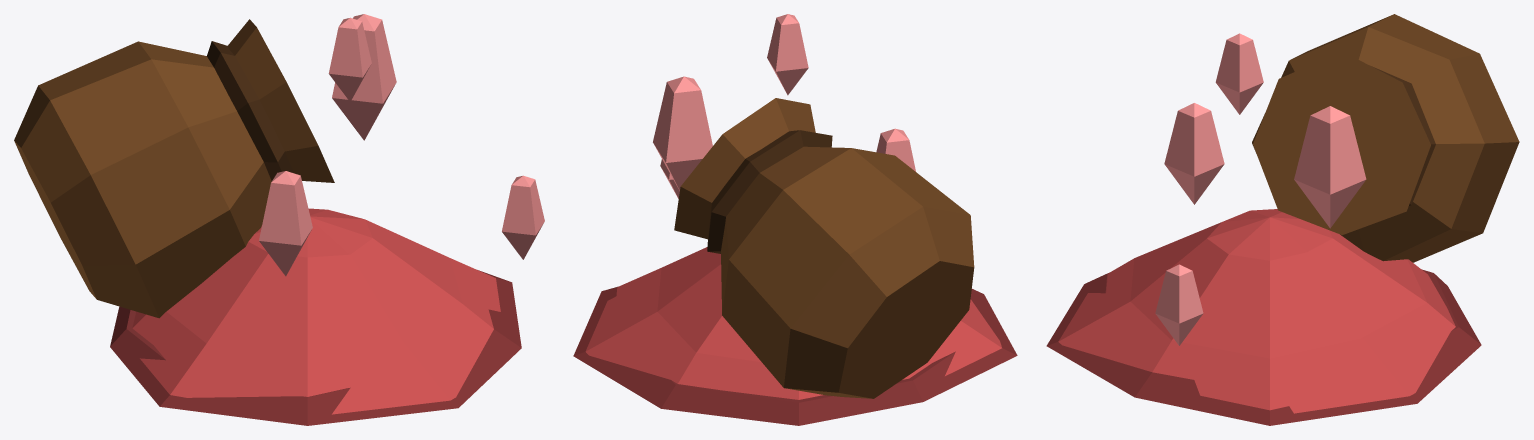
Rendered from dust.glb.
3 views of the same model, side by side, from view 1: azimuth 30°, elevation 25°; view 2: azimuth 150°, elevation 25°; view 3: azimuth 270°, elevation 25° (orthographic). The views are drawn at different scales.
Parts seen in each view (by area): view 1: dust; view 2: dust; view 3: dust.
Part boxes in pixels (x1=…): dust: x1=14, y1=14, x2=544, y2=425; dust: x1=573, y1=14, x2=1017, y2=425; dust: x1=1046, y1=14, x2=1519, y2=425.
Size of the model in its own units: 0.3138 by 0.2259 by 0.3136.
